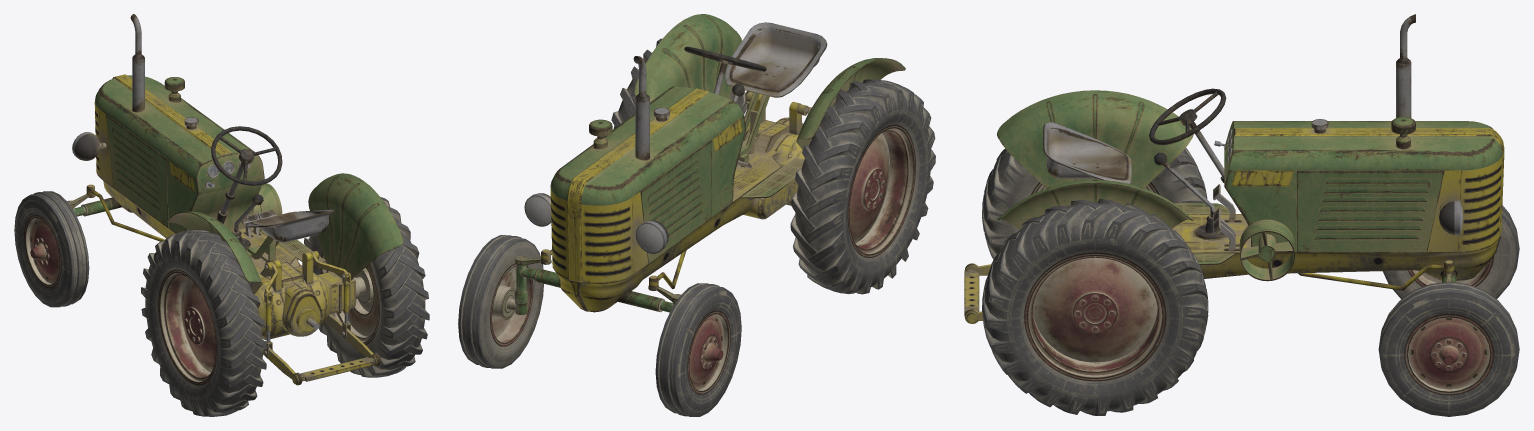
Rendered from tractor_sgw3.glb.
3 renders of one model, left to right at view 1: azimuth 30°, elevation 25°; view 2: azimuth 150°, elevation 25°; view 3: azimuth 270°, elevation 25°, orthographic. The views are drawn at different scales.
Visible parts, largest first — view 1: Object_4, Object_2, Object_3; view 2: Object_4, Object_2, Object_3; view 3: Object_4, Object_2, Object_3.
Boxes of the visible parts, x1=… form: Object_4: x1=67, y1=14, x2=403, y2=385; Object_2: x1=14, y1=191, x2=425, y2=416; Object_3: x1=72, y1=197, x2=429, y2=377; Object_4: x1=514, y1=14, x2=905, y2=312; Object_2: x1=458, y1=52, x2=935, y2=416; Object_3: x1=460, y1=38, x2=745, y2=368; Object_4: x1=964, y1=14, x2=1504, y2=323; Object_2: x1=982, y1=148, x2=1519, y2=415; Object_3: x1=982, y1=198, x2=1519, y2=416.
Size of the model in its own units: 228 by 292 by 435.
2 materials, 2 textured.
